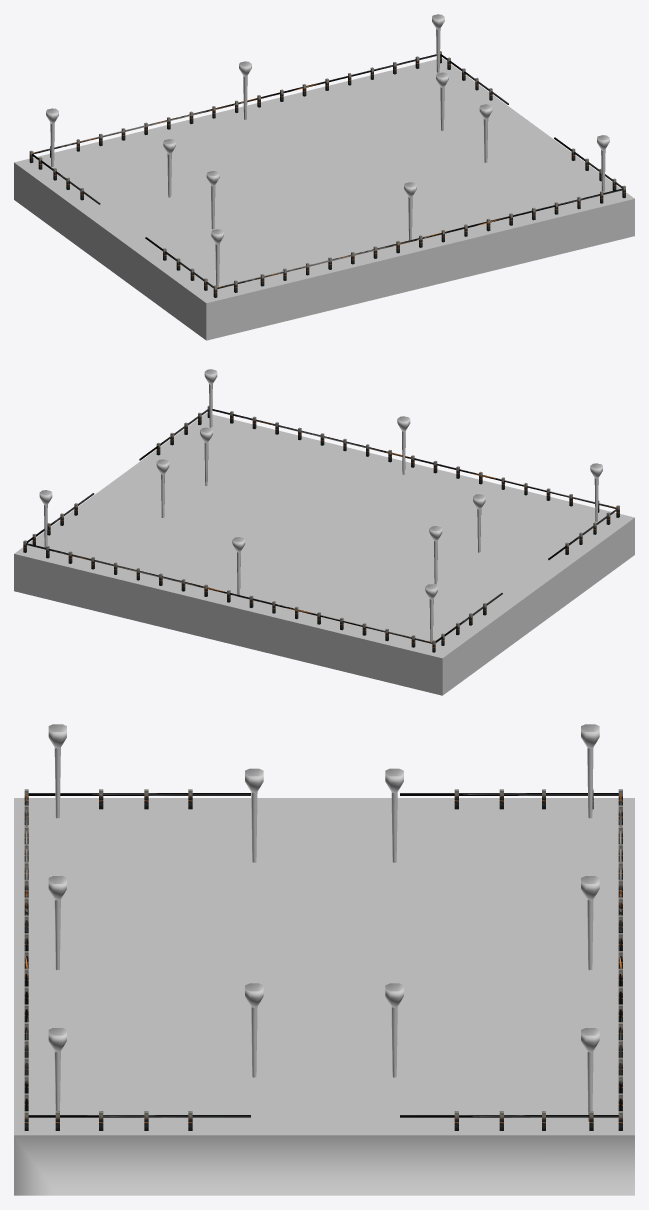
File: main_square.FBX
The picture shows the model from 3 angles, top to bottom: view 1: azimuth 30°, elevation 25°; view 2: azimuth 150°, elevation 25°; view 3: azimuth 270°, elevation 25°; orthographic projection. The views are drawn at different scales.
Visible parts, largest first — view 1: main_square, Fence_02, Fence_04, Fence_03, Fence_01; view 2: main_square, Fence_04, Fence_02, Fence_03, Fence_01; view 3: main_square, Fence_01, Fence_03, Fence_04, Fence_02, Torch_08, Torch_07, Torch_02, Torch_03, Torch_06, Torch_04, Torch_10 (+3 smaller).
Part boxes in pixels (x1=…): main_square: x1=14, y1=58, x2=634, y2=340; Fence_02: x1=217, y1=188, x2=623, y2=292; Fence_04: x1=33, y1=54, x2=436, y2=157; Fence_03: x1=29, y1=150, x2=217, y2=297; Fence_01: x1=440, y1=51, x2=625, y2=197; main_square: x1=14, y1=413, x2=634, y2=695; Fence_04: x1=26, y1=543, x2=432, y2=647; Fence_02: x1=212, y1=409, x2=616, y2=512; Fence_03: x1=432, y1=505, x2=619, y2=652; Fence_01: x1=23, y1=405, x2=209, y2=552; main_square: x1=14, y1=798, x2=634, y2=1195; Fence_01: x1=24, y1=1111, x2=622, y2=1130; Fence_03: x1=24, y1=789, x2=622, y2=809; Fence_04: x1=618, y1=794, x2=622, y2=1110; Fence_02: x1=24, y1=794, x2=28, y2=1110; Torch_08: x1=245, y1=768, x2=263, y2=862; Torch_07: x1=385, y1=768, x2=403, y2=862; Torch_02: x1=245, y1=983, x2=263, y2=1077; Torch_03: x1=385, y1=983, x2=403, y2=1077; Torch_06: x1=581, y1=724, x2=599, y2=818; Torch_04: x1=581, y1=876, x2=599, y2=970; Torch_10: x1=48, y1=724, x2=66, y2=818.
Bounding box in the file's own units: 18 × 3.72 × 14.
